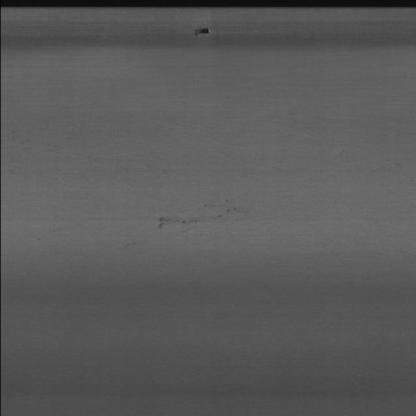inclusion: (150, 201, 245, 241), (181, 27, 214, 37)
